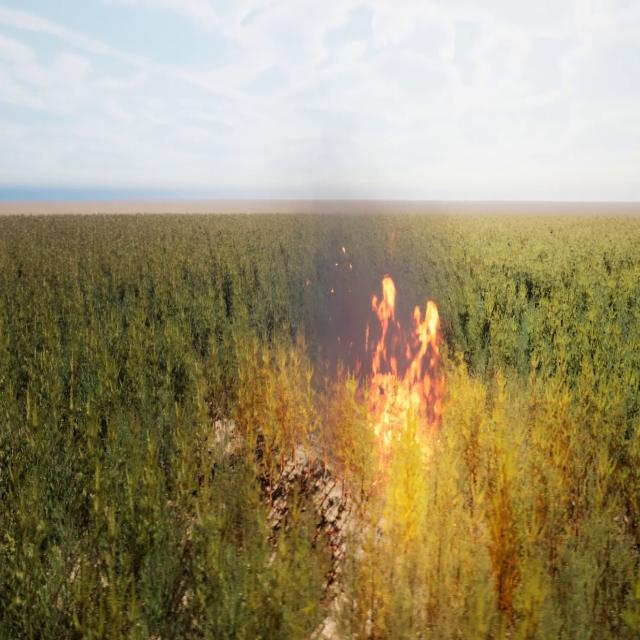fire: (358, 275, 448, 472)
smoke: (304, 201, 447, 441)
